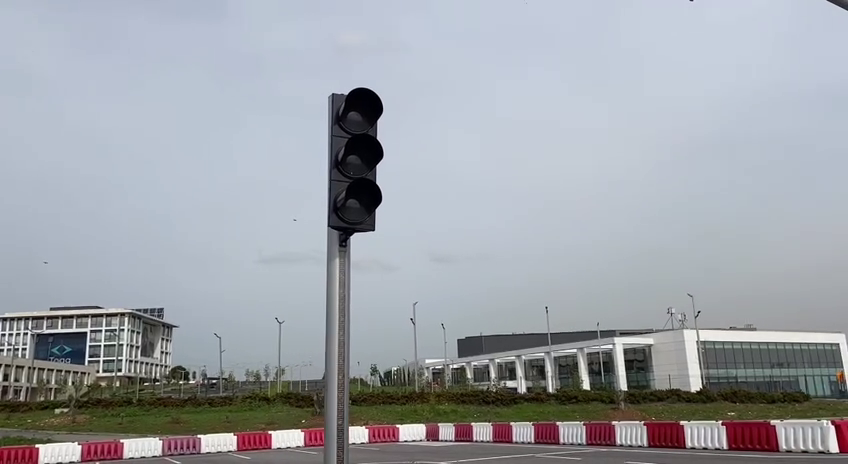trafficLight: (320, 83, 388, 240)
